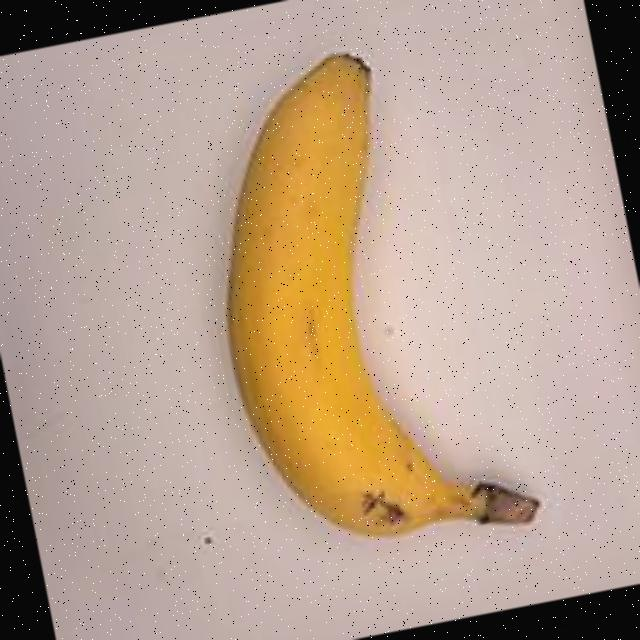Ripe: (120, 1, 600, 617)
